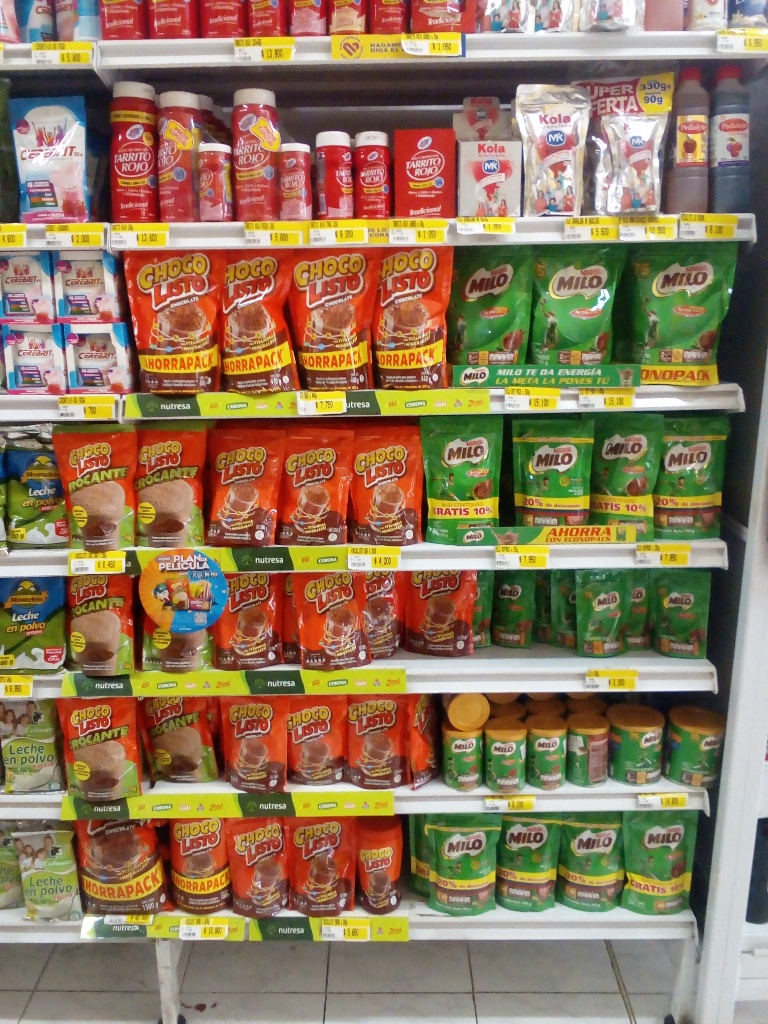COL0170103DYP1,500: (67, 812, 175, 919)
COL0170103DYP44000: (122, 245, 223, 393)
COL0170103TRR00100: (163, 815, 237, 916)
COL0170203DYP10000: (576, 570, 631, 655)
COL0170203LAT20000: (439, 730, 487, 790)
COL0170203LAT40000: (606, 706, 667, 785)
